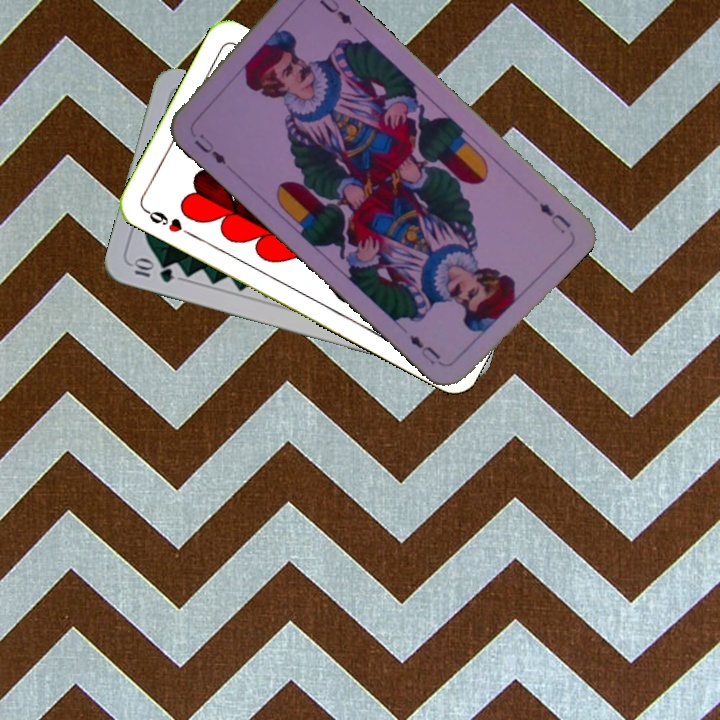EU: (534, 198, 574, 237), (190, 129, 229, 168)
G10: (130, 256, 176, 285)
H9: (140, 205, 196, 239)
